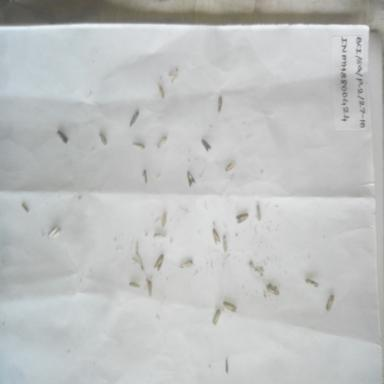pbw: (126, 106, 143, 131), (53, 127, 70, 150), (152, 250, 167, 276), (155, 80, 168, 105), (129, 139, 147, 157), (322, 290, 336, 313), (264, 281, 281, 298), (154, 133, 170, 151), (303, 274, 319, 292), (214, 94, 227, 116), (222, 159, 238, 176), (44, 222, 60, 239), (177, 257, 195, 272), (220, 298, 238, 313), (234, 210, 250, 226), (199, 136, 214, 153), (211, 306, 222, 329), (210, 225, 221, 248), (184, 170, 198, 188), (95, 130, 109, 148), (158, 210, 171, 229), (221, 232, 231, 255), (19, 200, 33, 216), (144, 278, 154, 300), (254, 203, 265, 222), (126, 278, 142, 290)
